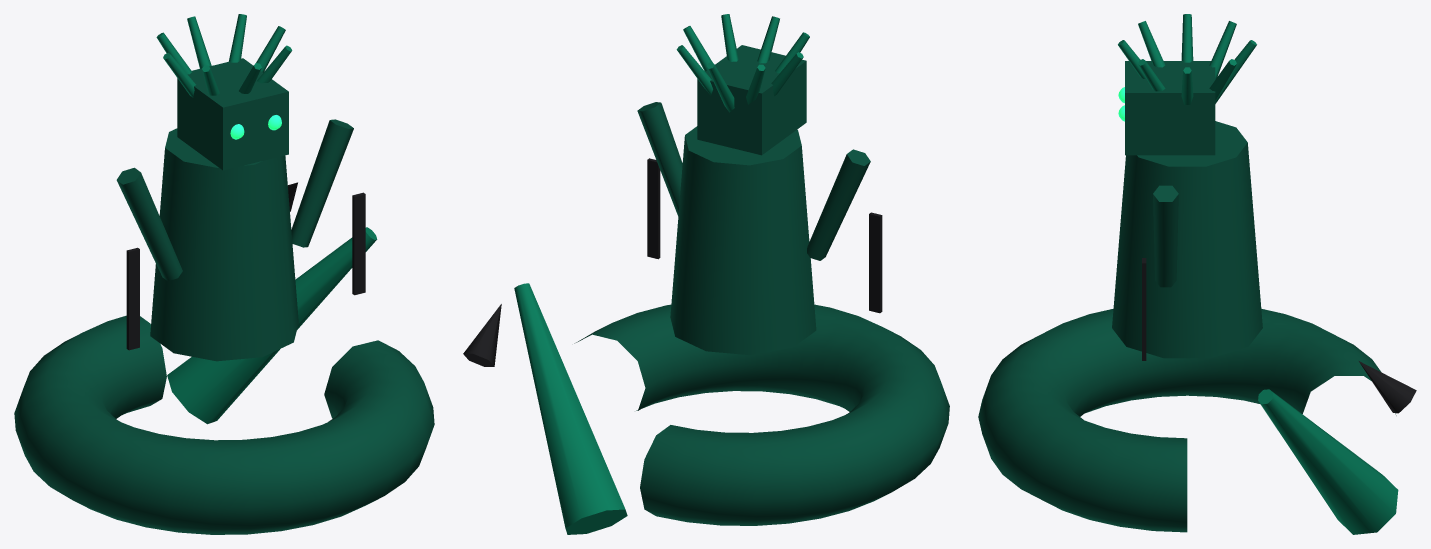
Rendered from gorgon.glb.
3 views of the same model, side by side, from view 1: azimuth 30°, elevation 25°; view 2: azimuth 150°, elevation 25°; view 3: azimuth 270°, elevation 25° (orthographic).
Parts seen in each view (by area): view 1: gorgon_mesh_000, gorgon_scaled_torso, gorgon_serpent_crown, gorgon_triple_stinger_tail, gorgon_mesh_014, gorgon_mesh_012, gorgon_mesh_013, gorgon_mesh_015, gorgon_mesh_008, gorgon_mesh_009; view 2: gorgon_mesh_000, gorgon_scaled_torso, gorgon_triple_stinger_tail, gorgon_serpent_crown, gorgon_mesh_012, gorgon_mesh_014, gorgon_mesh_013, gorgon_mesh_015, gorgon_mesh_001; view 3: gorgon_mesh_000, gorgon_scaled_torso, gorgon_triple_stinger_tail, gorgon_serpent_crown, gorgon_mesh_014, gorgon_mesh_001, gorgon_mesh_007, gorgon_mesh_006, gorgon_mesh_005, gorgon_mesh_015.
Part boxes in pixels (box(x1,y1,x2,y2)): gorgon_mesh_000: box(14, 315, 434, 534); gorgon_scaled_torso: box(150, 128, 298, 361); gorgon_serpent_crown: box(177, 58, 288, 170); gorgon_triple_stinger_tail: box(167, 227, 377, 424); gorgon_mesh_014: box(291, 119, 353, 247); gorgon_mesh_012: box(116, 167, 182, 280); gorgon_mesh_013: box(126, 247, 139, 350); gorgon_mesh_015: box(352, 192, 365, 295); gorgon_mesh_008: box(187, 16, 211, 68); gorgon_mesh_009: box(228, 14, 246, 62); gorgon_mesh_000: box(574, 304, 949, 525); gorgon_scaled_torso: box(670, 126, 816, 355); gorgon_triple_stinger_tail: box(514, 283, 627, 534); gorgon_serpent_crown: box(697, 45, 806, 155); gorgon_mesh_012: box(807, 149, 870, 260); gorgon_mesh_014: box(637, 102, 682, 215); gorgon_mesh_013: box(869, 212, 882, 313); gorgon_mesh_015: box(647, 158, 660, 259); gorgon_mesh_001: box(463, 304, 501, 366); gorgon_mesh_000: box(978, 308, 1396, 532); gorgon_scaled_torso: box(1112, 121, 1262, 358); gorgon_triple_stinger_tail: box(1258, 389, 1398, 534); gorgon_serpent_crown: box(1125, 61, 1215, 155); gorgon_mesh_014: box(1153, 185, 1178, 287); gorgon_mesh_001: box(1359, 361, 1416, 413); gorgon_mesh_007: box(1209, 21, 1236, 79); gorgon_mesh_006: box(1181, 14, 1193, 62); gorgon_mesh_005: box(1138, 21, 1165, 67); gorgon_mesh_015: box(1142, 258, 1146, 360).
Size of the model in its own units: 3.09 by 3.63 by 3.15.
